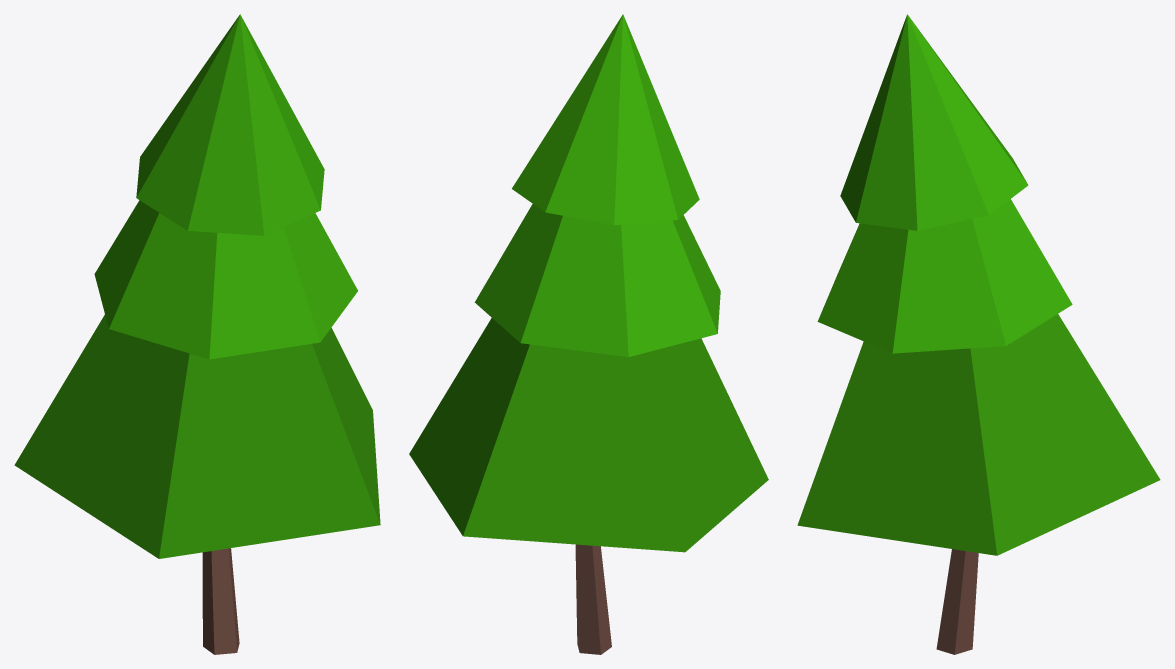
File: treeSet_pine2.dae
The picture shows the model from 3 angles, left to right: view 1: azimuth 30°, elevation 25°; view 2: azimuth 150°, elevation 25°; view 3: azimuth 270°, elevation 25°; orthographic projection. The views are drawn at different scales.
Parts seen in each view (by area): view 1: leaves (×3), bark; view 2: leaves (×3), bark; view 3: leaves (×3), bark.
Boxes of the visible parts, x1=… form: leaves (×3): x1=14, y1=14, x2=380, y2=558; bark: x1=202, y1=548, x2=239, y2=654; leaves (×3): x1=409, y1=14, x2=768, y2=552; bark: x1=575, y1=544, x2=611, y2=654; leaves (×3): x1=797, y1=14, x2=1160, y2=555; bark: x1=936, y1=549, x2=978, y2=654.
Size of the model in its own units: 593 by 1138 by 595.
1 material, 1 textured.
